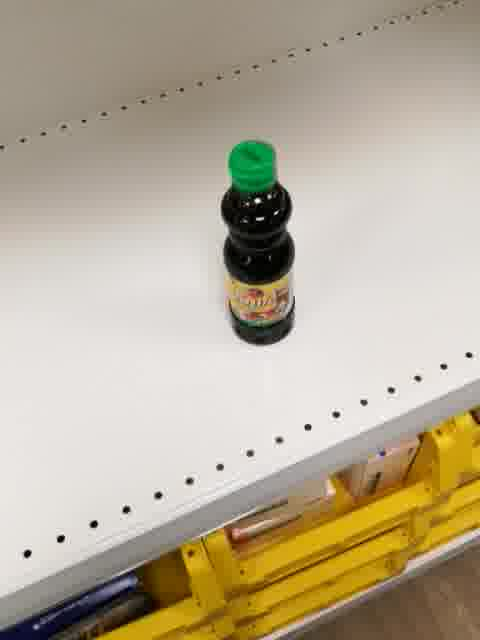cookingoil: (217, 138, 296, 347)
